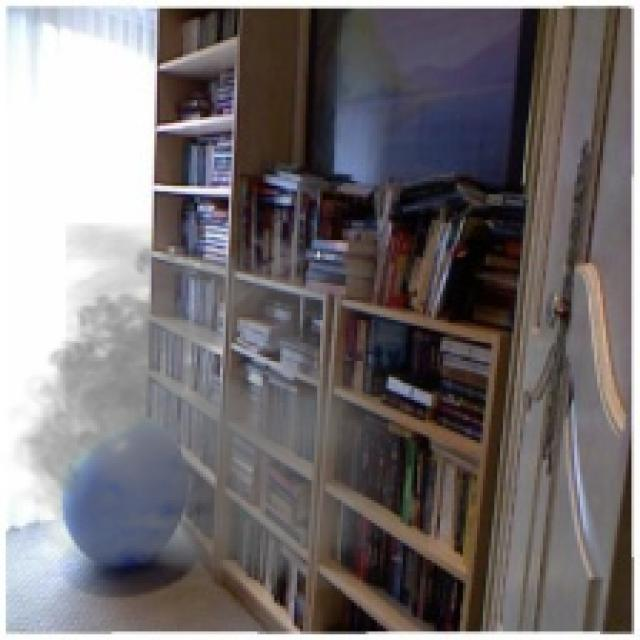smoke: (0, 223, 400, 591)
